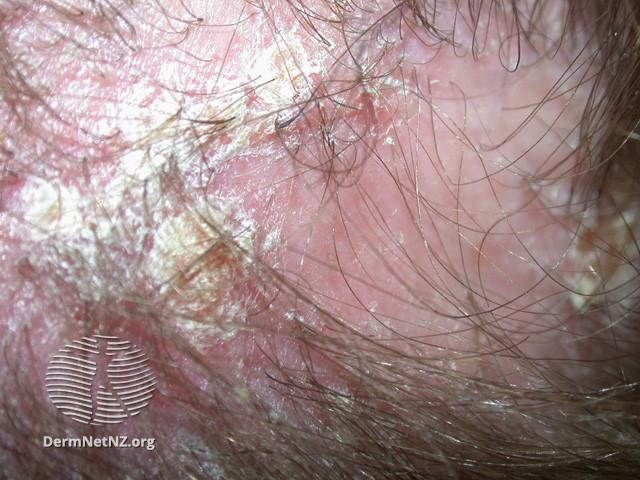Psoriasis: (5, 8, 625, 346)
